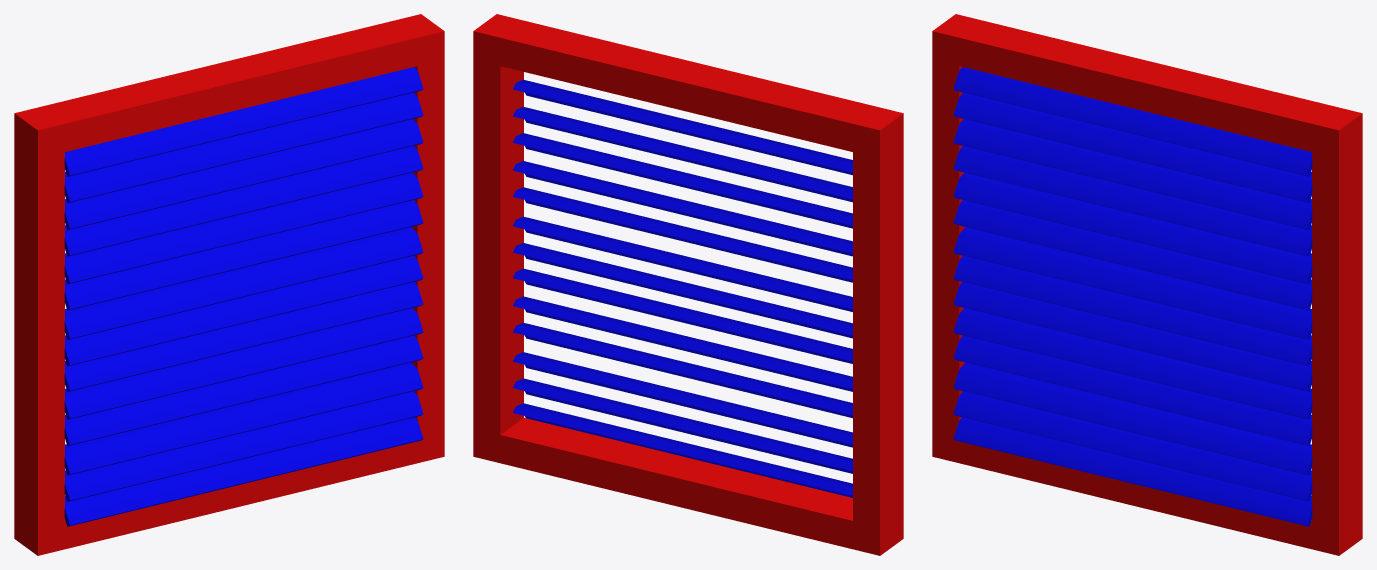
The model's file is 3D_Rejilla_Ventilacion.fbx.
3 views of the same model, side by side, from view 1: azimuth 30°, elevation 25°; view 2: azimuth 150°, elevation 25°; view 3: azimuth 330°, elevation 25° (orthographic).
Parts seen in each view (by area): view 1: RejillasVentilacion; view 2: RejillasVentilacion; view 3: RejillasVentilacion.
Part boxes in pixels (box(x1,y1,x2,y2)): RejillasVentilacion: box(14, 14, 444, 555); RejillasVentilacion: box(473, 14, 903, 555); RejillasVentilacion: box(932, 14, 1362, 555).
Size of the model in its own units: 30 by 29.99 by 3.72.
